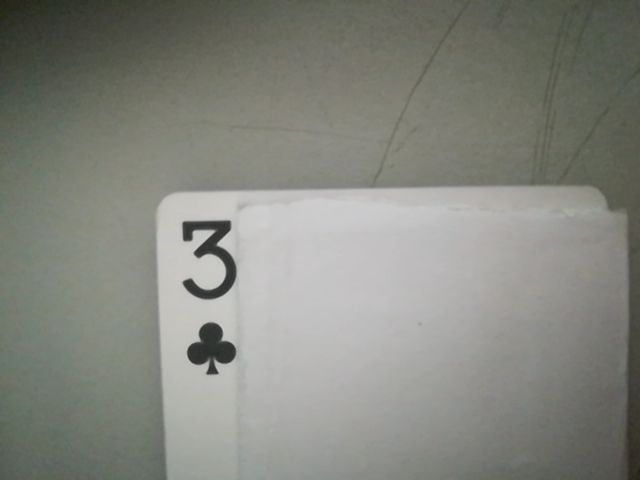mh 3: (163, 209, 253, 381)
